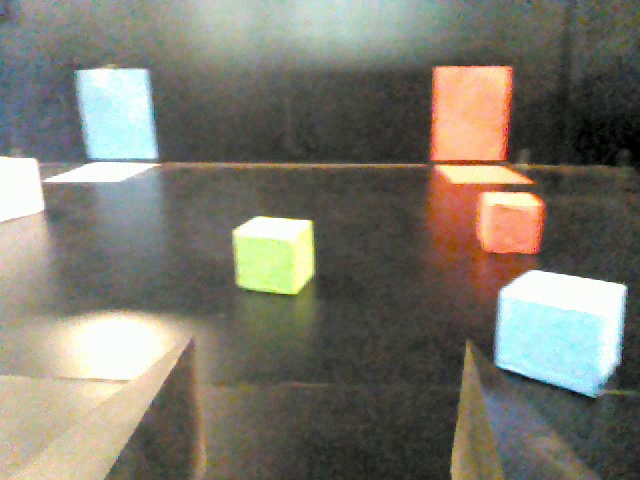cube: (489, 270, 632, 398), (229, 213, 313, 303), (478, 185, 546, 252), (0, 157, 47, 222)
